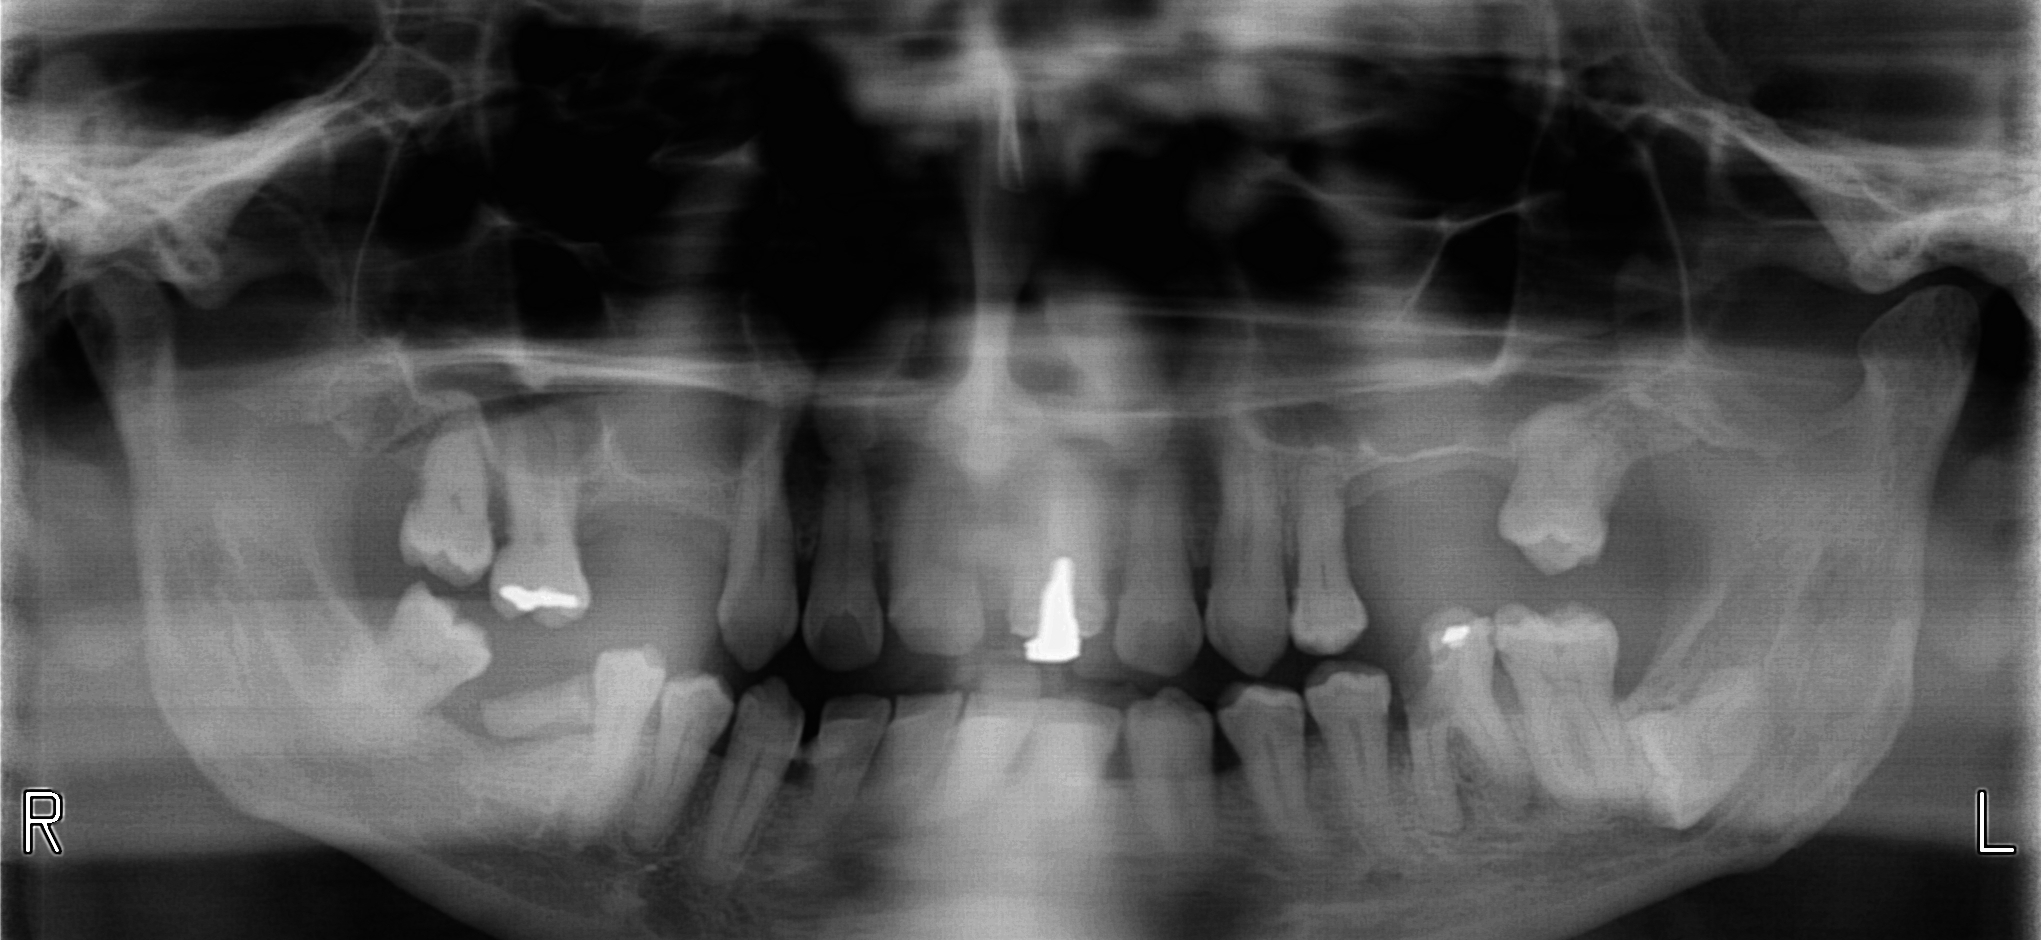cavity: (1399, 625, 1428, 691), (501, 504, 508, 549), (414, 483, 423, 497)
